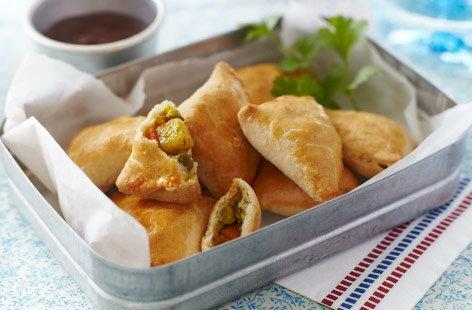samosa: (177, 62, 261, 198), (238, 96, 343, 201)
